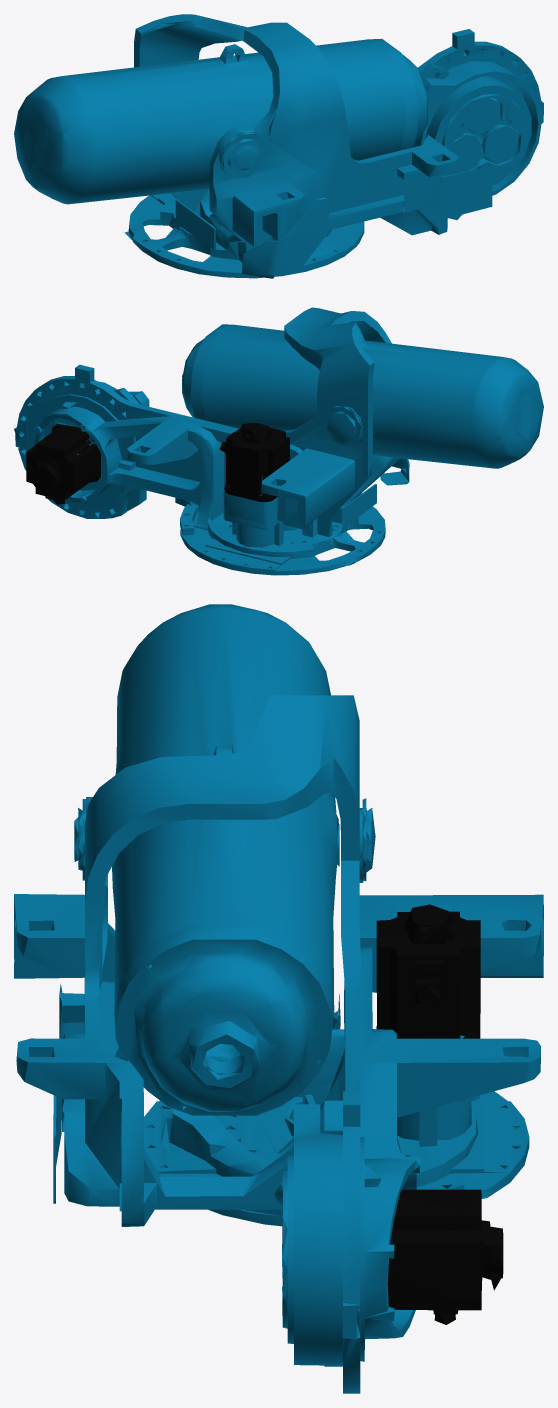
The picture shows the model from 3 angles, top to bottom: view 1: azimuth 30°, elevation 25°; view 2: azimuth 150°, elevation 25°; view 3: azimuth 270°, elevation 25°; orthographic projection. The views are drawn at different scales.
Visible parts, largest first — view 1: es165rd-a00_lk1; view 2: es165rd-a00_lk1; view 3: es165rd-a00_lk1.
Part boxes in pixels (<box>): es165rd-a00_lk1: <box>14,14,543,278</box>; es165rd-a00_lk1: <box>14,307,543,575</box>; es165rd-a00_lk1: <box>14,604,543,1393</box>.
Size of the model in its own units: 1.83 by 0.9209 by 0.8724.
